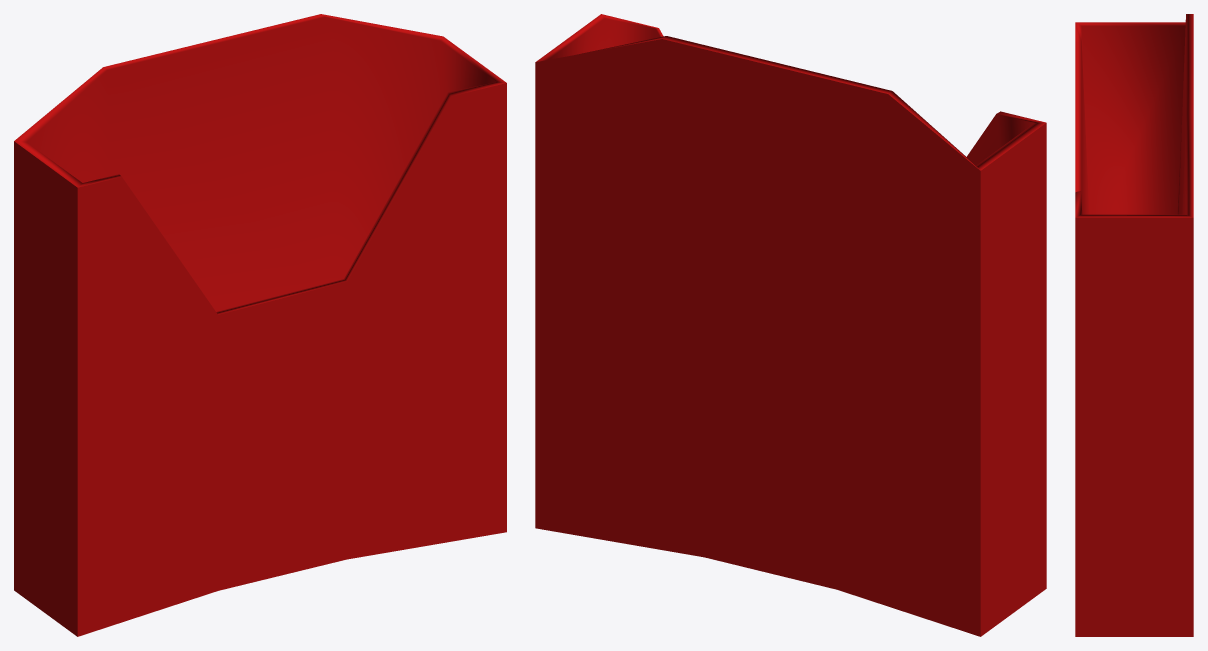
Rendered from FriesHolder.obj.
3 views of the same model, side by side, from view 1: azimuth 30°, elevation 25°; view 2: azimuth 150°, elevation 25°; view 3: azimuth 270°, elevation 25° (orthographic). The views are drawn at different scales.
Visible parts, largest first — view 1: pCube37; view 2: pCube37; view 3: pCube37.
Boxes of the visible parts, bbox=[...] form: pCube37: bbox=[14, 14, 506, 636]; pCube37: bbox=[535, 14, 1046, 636]; pCube37: bbox=[1075, 14, 1193, 636].
Bounding box in the file's own units: 1 × 1.12 × 0.2565.
